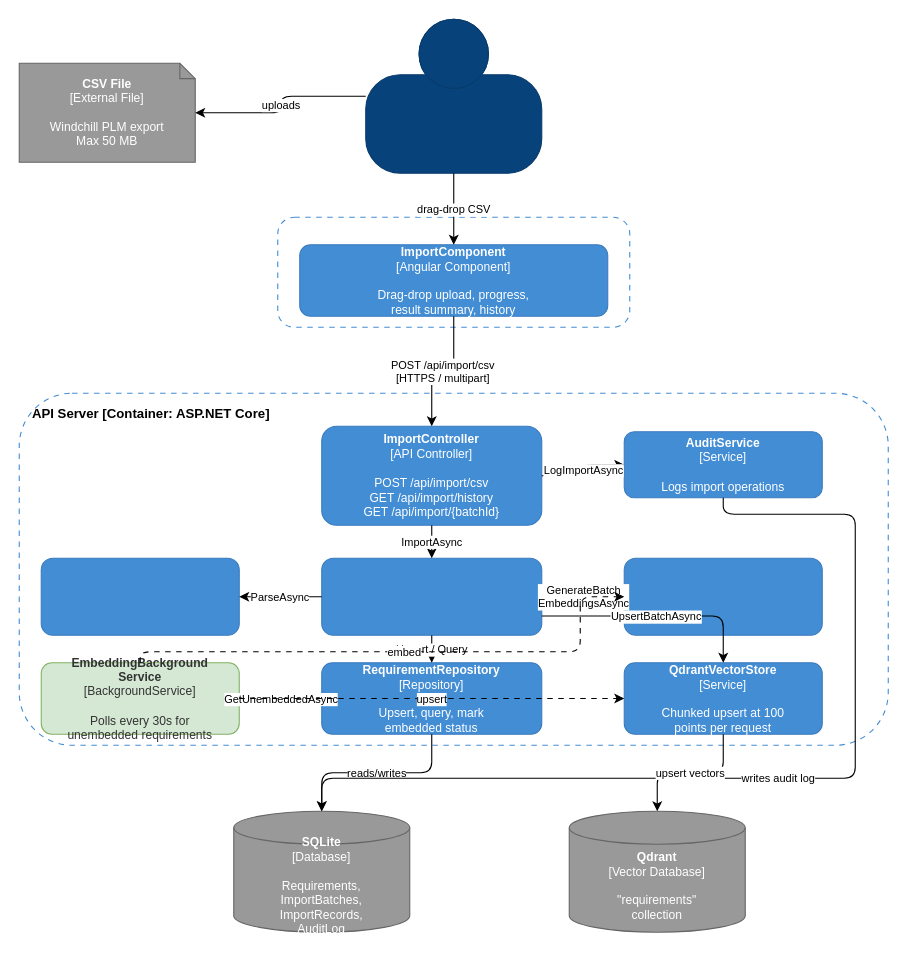
This 908x955 diagram has some shape labels left out. The shapes that lost their labels are listed below. From the top down, each one's box as (x1, y1, x2, y2) in pixels, then its label:
(365, 18, 542, 173): Systems Engineer [Person] Uploads Windchill PLM CSV exports into TraceQ
(277, 216, 630, 327): Angular SPA [Container]
(40, 557, 239, 635): CsvParser [Service] CsvHelper with WindchillRequirementMap
(321, 557, 542, 635): ImportService [Service] Orchestrates parse, upsert, embed, and report
(623, 557, 822, 635): OnnxEmbeddingService [Service] ONNX runtime model for vector embeddings
